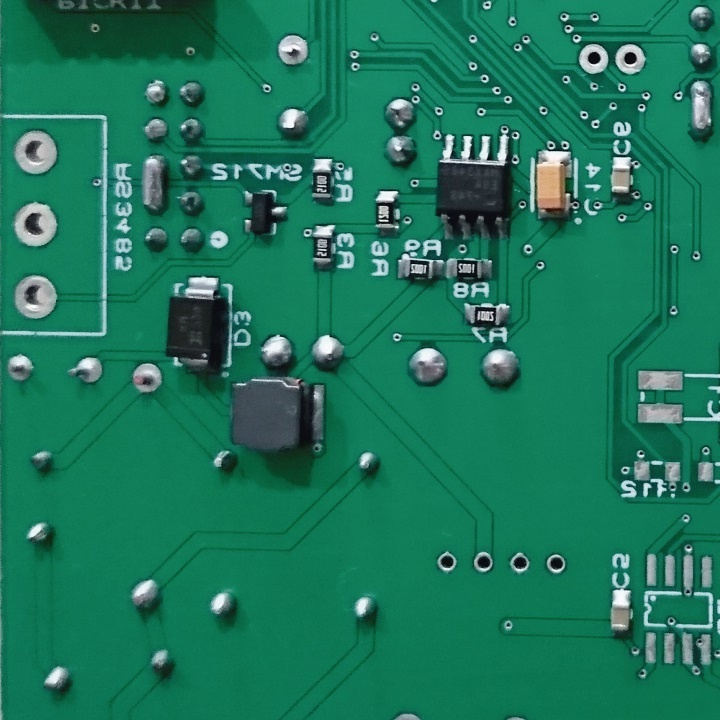F: (10, 126, 64, 179), (10, 271, 61, 324), (12, 200, 62, 252), (64, 353, 107, 386), (129, 360, 166, 398), (613, 40, 649, 79), (273, 32, 311, 68), (1, 351, 41, 384), (575, 43, 612, 78), (544, 547, 569, 579), (469, 549, 495, 578), (509, 548, 531, 578), (433, 549, 457, 576)
P: (137, 152, 169, 218), (688, 77, 716, 143)
